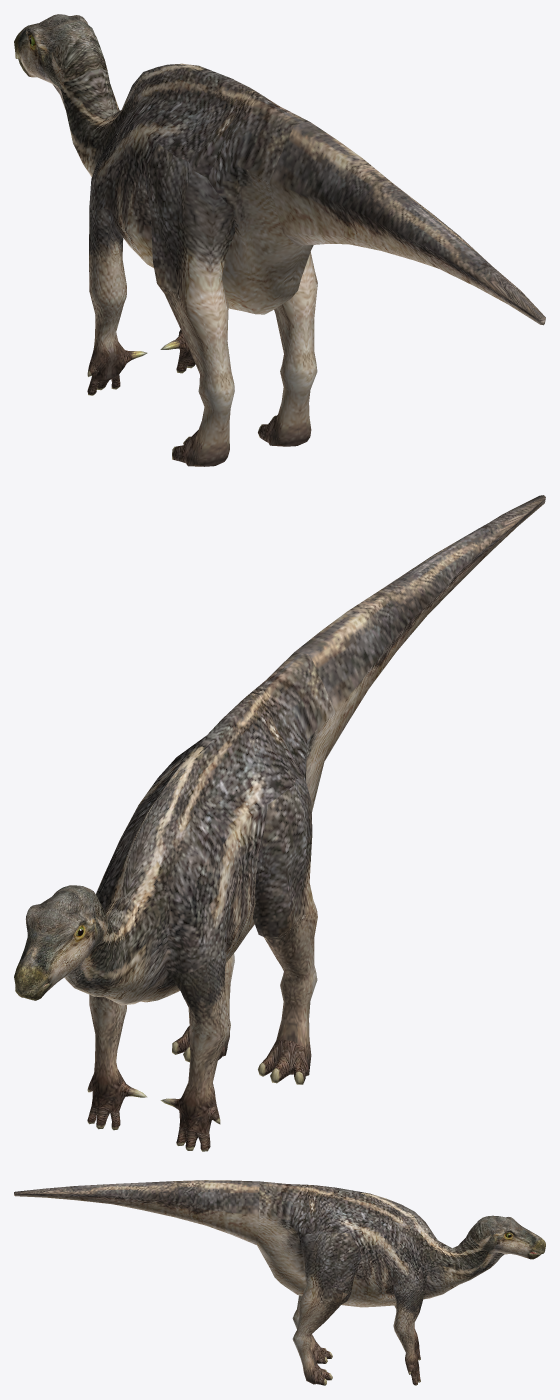
Rendered from Iguano.fbx.
The picture shows the model from 3 angles, top to bottom: view 1: azimuth 30°, elevation 25°; view 2: azimuth 150°, elevation 25°; view 3: azimuth 270°, elevation 25°; orthographic projection. The views are drawn at different scales.
Parts seen in each view (by area): view 1: Iguano; view 2: Iguano; view 3: Iguano.
Part boxes in pixels (x1,y1,x2,y2): Iguano: [14, 14, 545, 466]; Iguano: [14, 495, 545, 1151]; Iguano: [14, 1180, 545, 1385].
Bounding box in the file's own units: 151 × 381 × 970.
3 materials, 3 textured.
